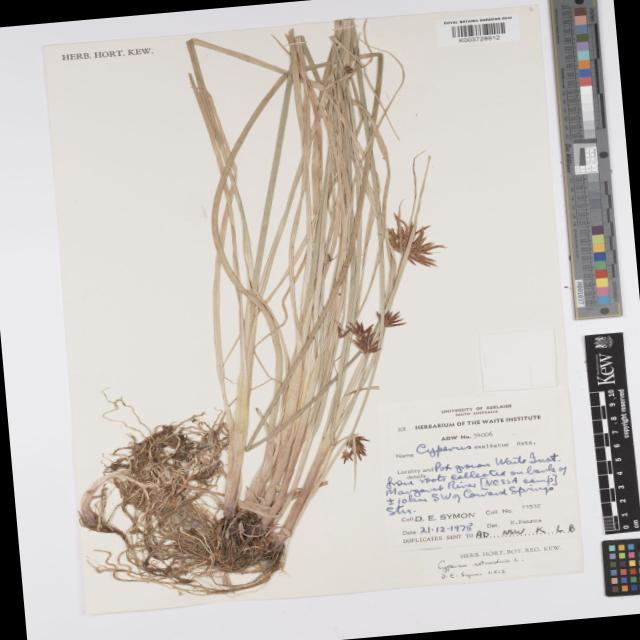cyperus: (330, 302, 417, 364), (376, 210, 446, 279), (332, 428, 377, 467)
